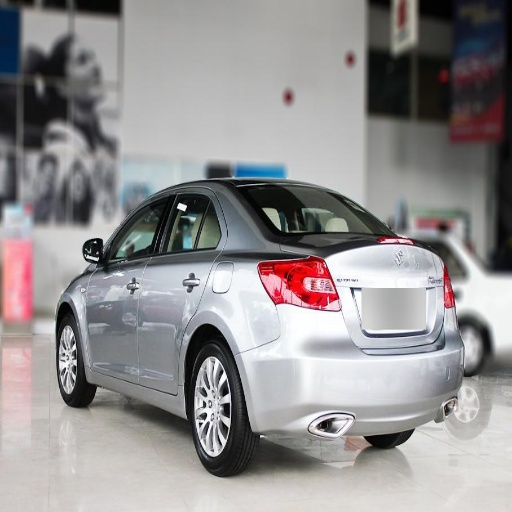back_bumper: (237, 304, 467, 444)
back_glass: (229, 183, 384, 238)
back_left_door: (140, 185, 226, 392)
